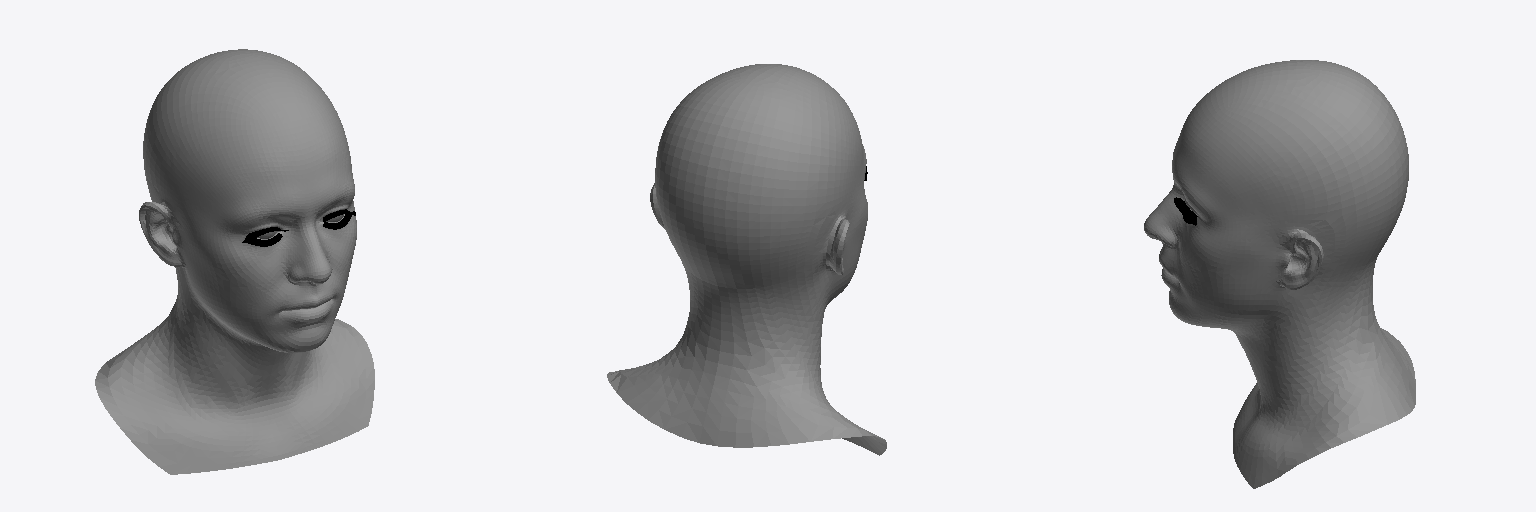
Rendered from identity045.obj.
3 renders of one model, left to right at view 1: azimuth 30°, elevation 25°; view 2: azimuth 150°, elevation 25°; view 3: azimuth 270°, elevation 25°, orthographic.
Bounding box in the file's own units: 24.83 × 33.81 × 22.33.